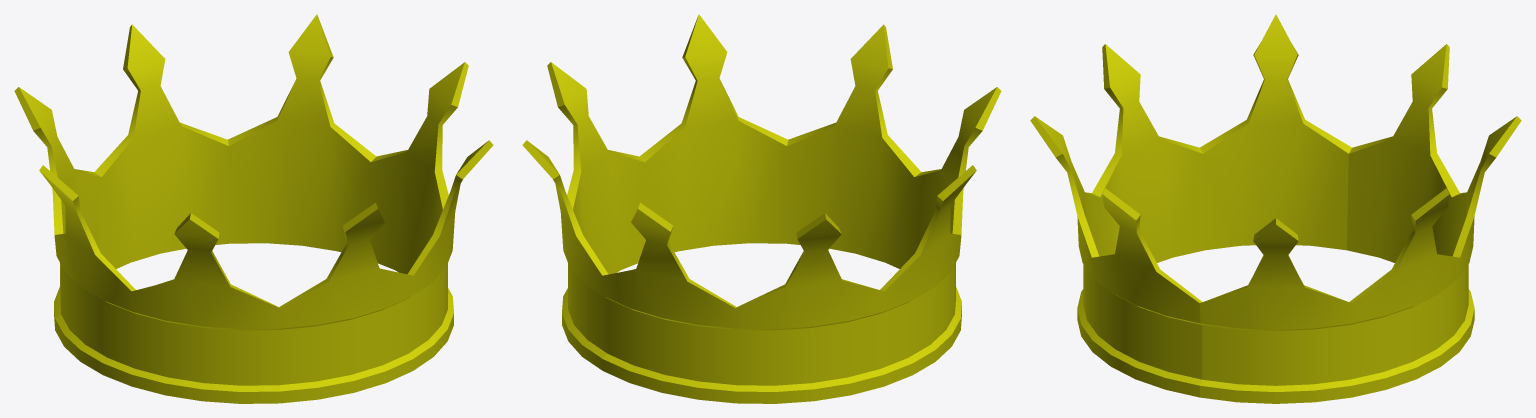
Rendered from crown.FBX.
3 views of the same model, side by side, from view 1: azimuth 30°, elevation 25°; view 2: azimuth 150°, elevation 25°; view 3: azimuth 270°, elevation 25° (orthographic).
Parts seen in each view (by area): view 1: crown; view 2: crown; view 3: crown.
Part boxes in pixels (x1,y1,x2,y2): crown: (14,14,493,403); crown: (522,14,1001,403); crown: (1030,14,1521,403).
Bounding box in the file's own units: 22.86 × 10.61 × 22.86.
